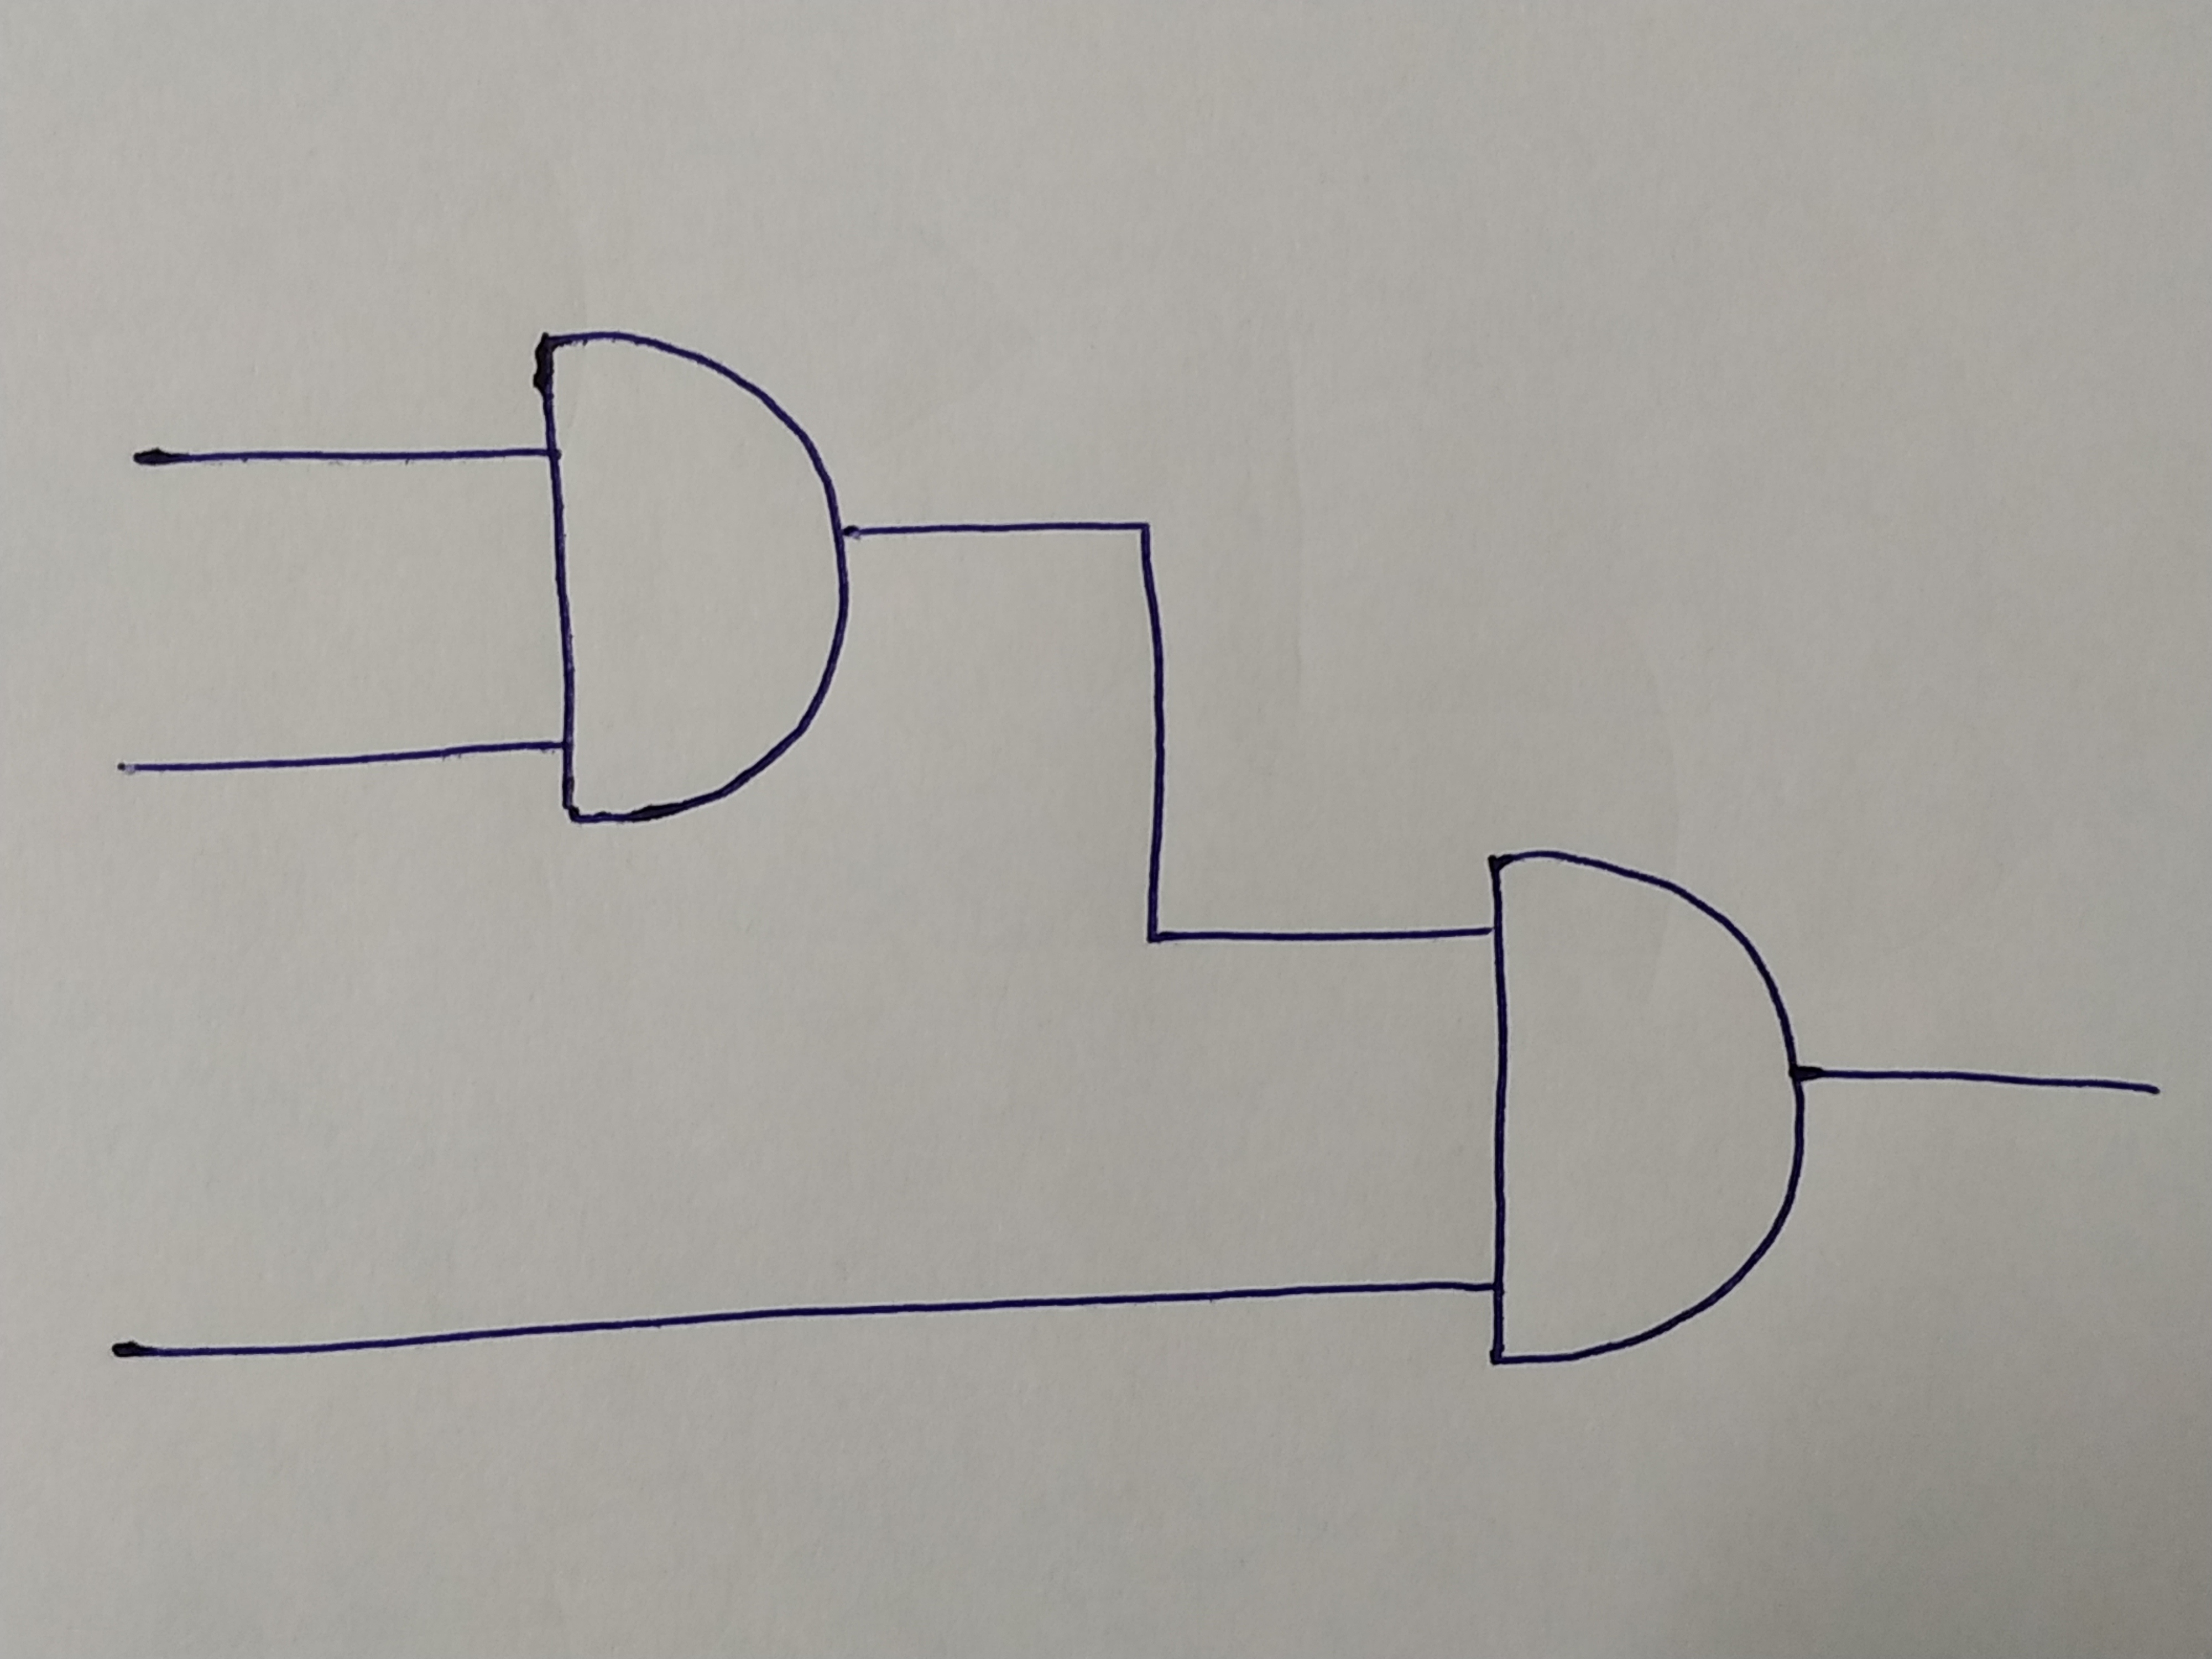and: (1486, 852, 1810, 1370), (531, 324, 846, 828)
